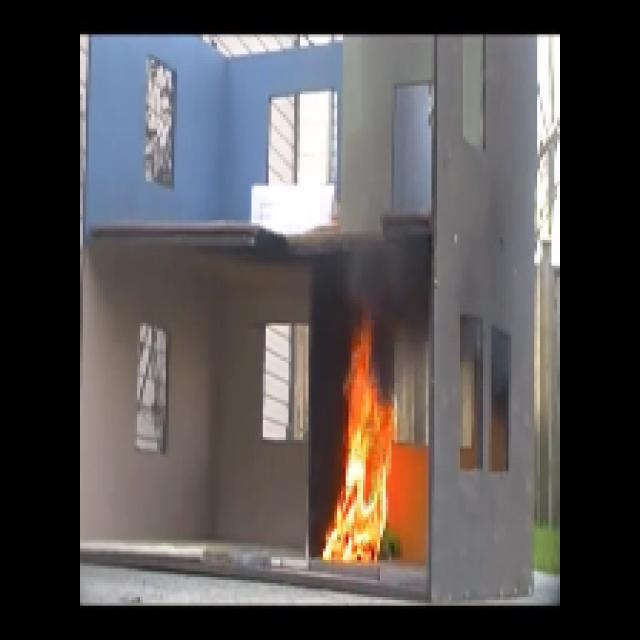fire: (334, 349, 392, 562)
smoke: (321, 252, 434, 312)
